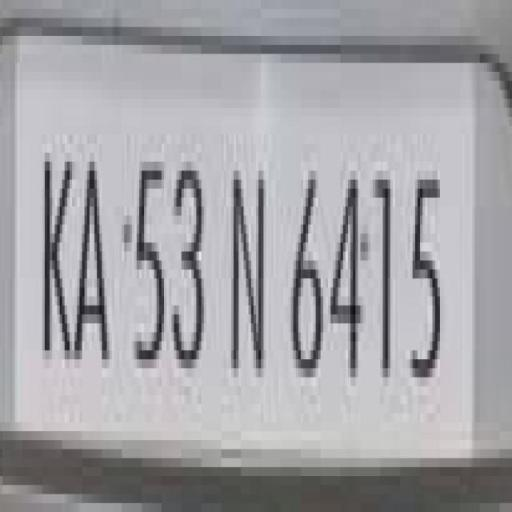number plate: (20, 45, 512, 476)
